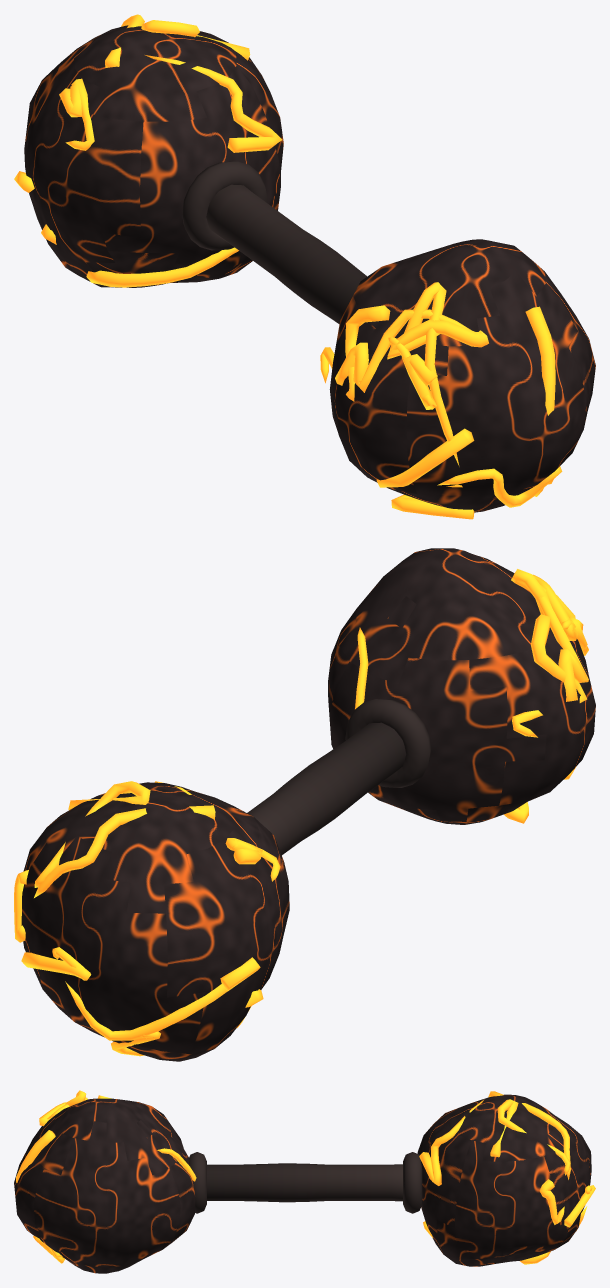
The model's file is LavaDumbbell.glb.
The picture shows the model from 3 angles, top to bottom: view 1: azimuth 30°, elevation 25°; view 2: azimuth 150°, elevation 25°; view 3: azimuth 270°, elevation 25°; orthographic projection. The views are drawn at different scales.
Visible parts, largest first — view 1: LavaDumbbell, LavaDumbbell_Glow; view 2: LavaDumbbell, LavaDumbbell_Glow; view 3: LavaDumbbell, LavaDumbbell_Glow.
Part boxes in pixels (bbox=[...]): LavaDumbbell: bbox=[24, 25, 595, 512]; LavaDumbbell_Glow: bbox=[14, 14, 562, 519]; LavaDumbbell: bbox=[21, 548, 595, 1061]; LavaDumbbell_Glow: bbox=[14, 569, 588, 1056]; LavaDumbbell: bbox=[14, 1094, 591, 1273]; LavaDumbbell_Glow: bbox=[16, 1090, 595, 1264].
Bounding box in the file's own units: 0.8561 × 0.8644 × 2.7.
2 materials, 1 textured.
